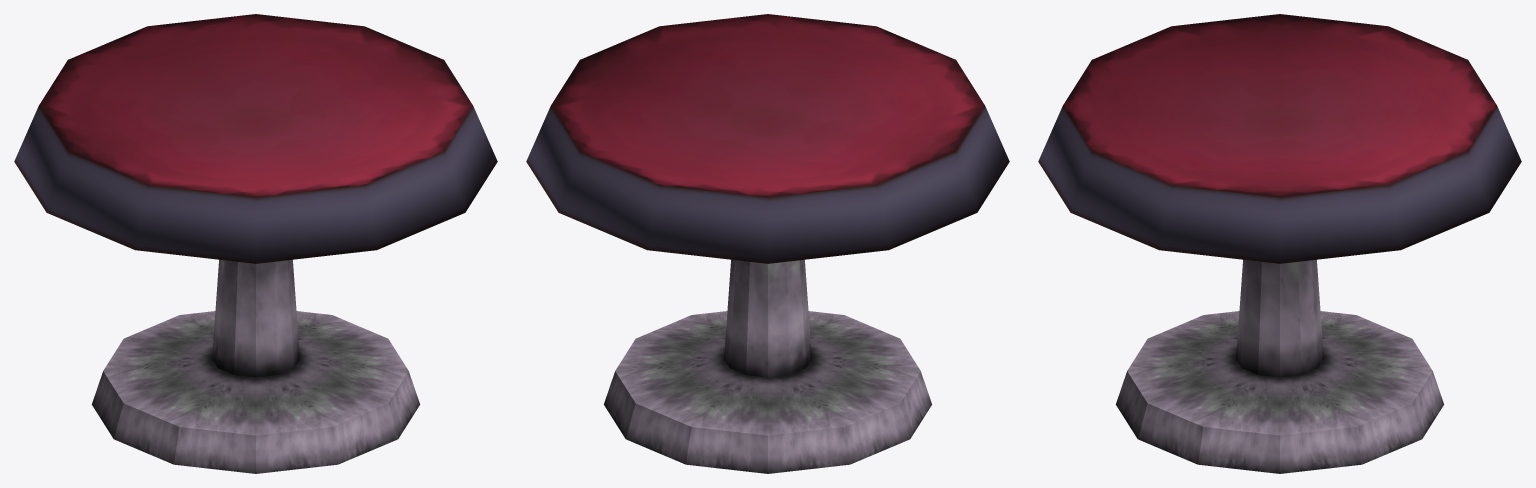
The model's file is disco_stool_high.DAE.
3 views of the same model, side by side, from view 1: azimuth 30°, elevation 25°; view 2: azimuth 150°, elevation 25°; view 3: azimuth 270°, elevation 25° (orthographic).
Parts seen in each view (by area): view 1: Cylinder01; view 2: Cylinder01; view 3: Cylinder01.
Boxes of the visible parts, bbox=[...] form: Cylinder01: bbox=[14, 14, 497, 473]; Cylinder01: bbox=[526, 14, 1009, 473]; Cylinder01: bbox=[1038, 14, 1521, 473].
Bounding box in the file's own units: 1.08 × 0.7391 × 1.08.
